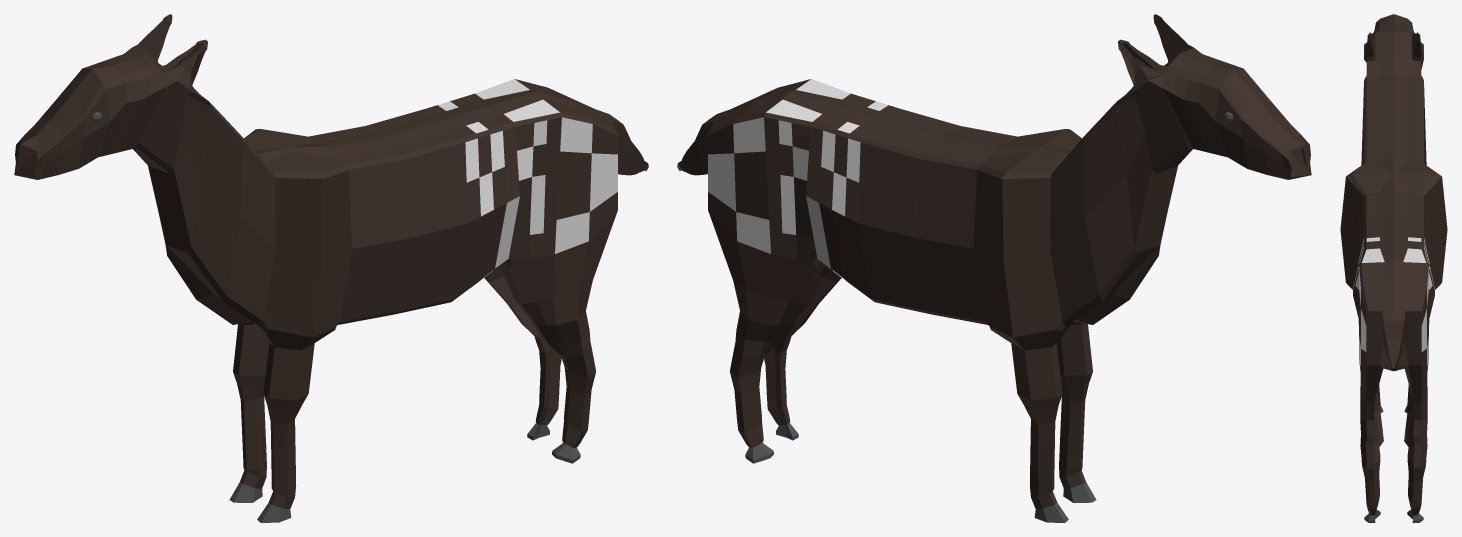
The model's file is visayanspotteddeersnohorn_1.fbx.
3 renders of one model, left to right at view 1: azimuth 30°, elevation 25°; view 2: azimuth 150°, elevation 25°; view 3: azimuth 270°, elevation 25°, orthographic. The views are drawn at different scales.
Parts seen in each view (by area): view 1: Plane; view 2: Plane; view 3: Plane.
Boxes of the visible parts, <box> form: Plane: <box>14,14,648,522</box>; Plane: <box>677,14,1311,522</box>; Plane: <box>1340,14,1447,522</box>.
Bounding box in the file's own units: 368 × 284 × 76.33.
